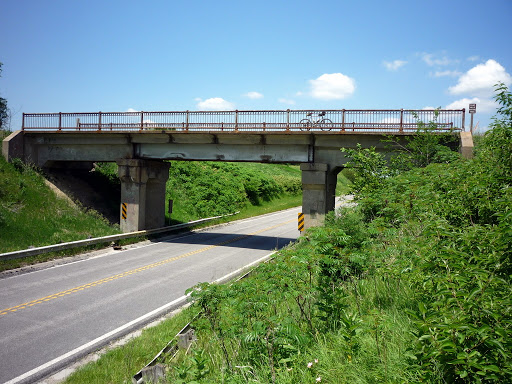bridge: (3, 109, 474, 242)
